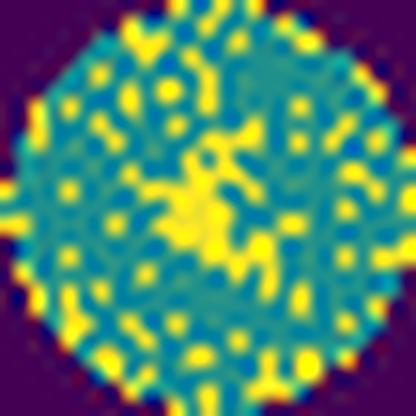Center: (122, 117, 280, 302)
